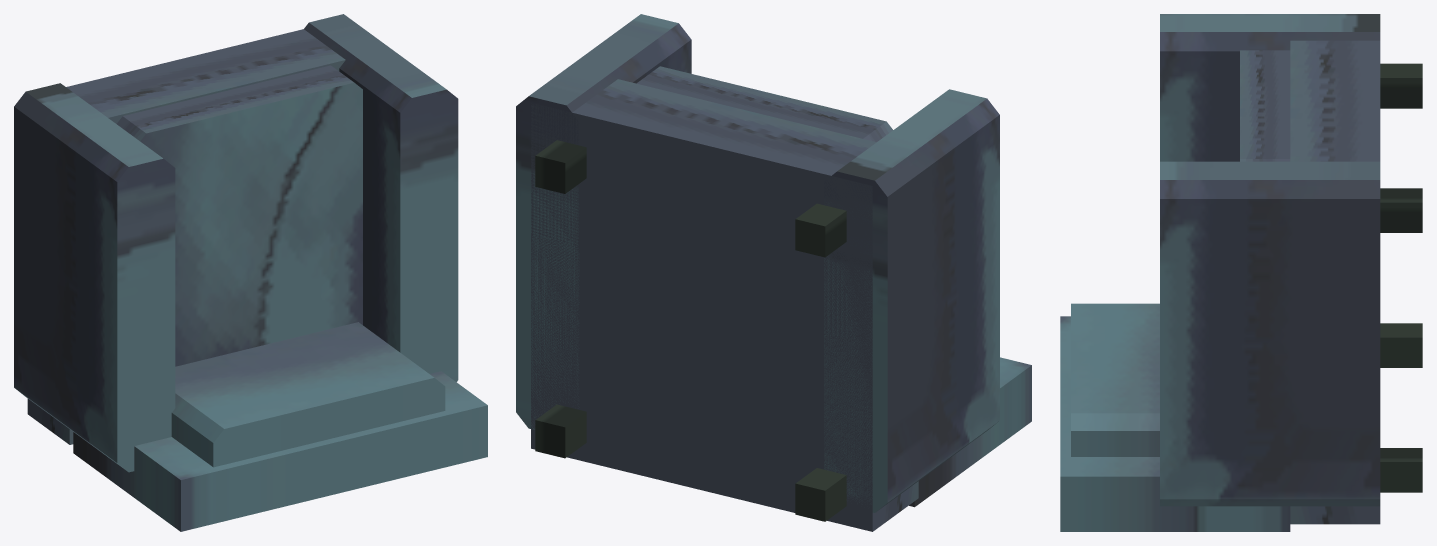
File: pz_chair_seating_indoor_03_blue_comfy.obj
3 views of the same model, side by side, from view 1: azimuth 30°, elevation 25°; view 2: azimuth 150°, elevation 25°; view 3: azimuth 270°, elevation 25° (orthographic). The views are drawn at different scales.
Parts seen in each view (by area): view 1: root; view 2: root; view 3: root.
Boxes of the visible parts, box(x1,y1,x2,y2) form: root: box(14, 14, 487, 531); root: box(516, 14, 1031, 531); root: box(1060, 14, 1422, 531).
Bounding box in the file's own units: 1 × 0.93 × 0.86.
1 material, 1 textured.
